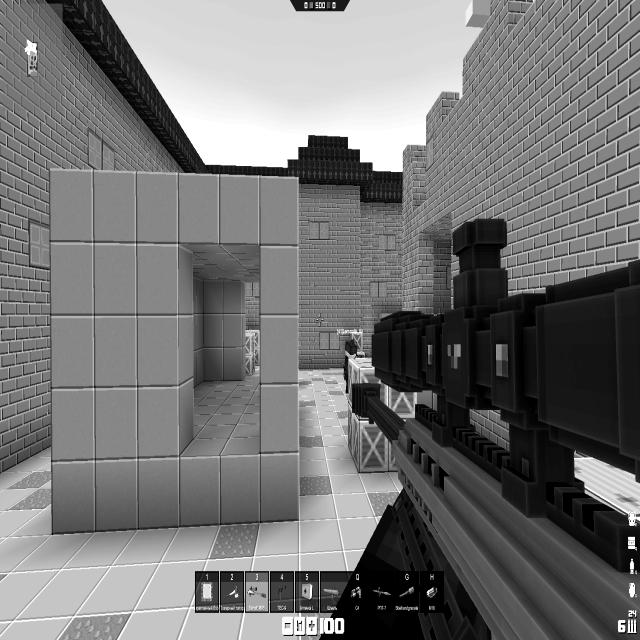Head: (344, 341, 358, 358)
Player: (343, 341, 358, 393)
